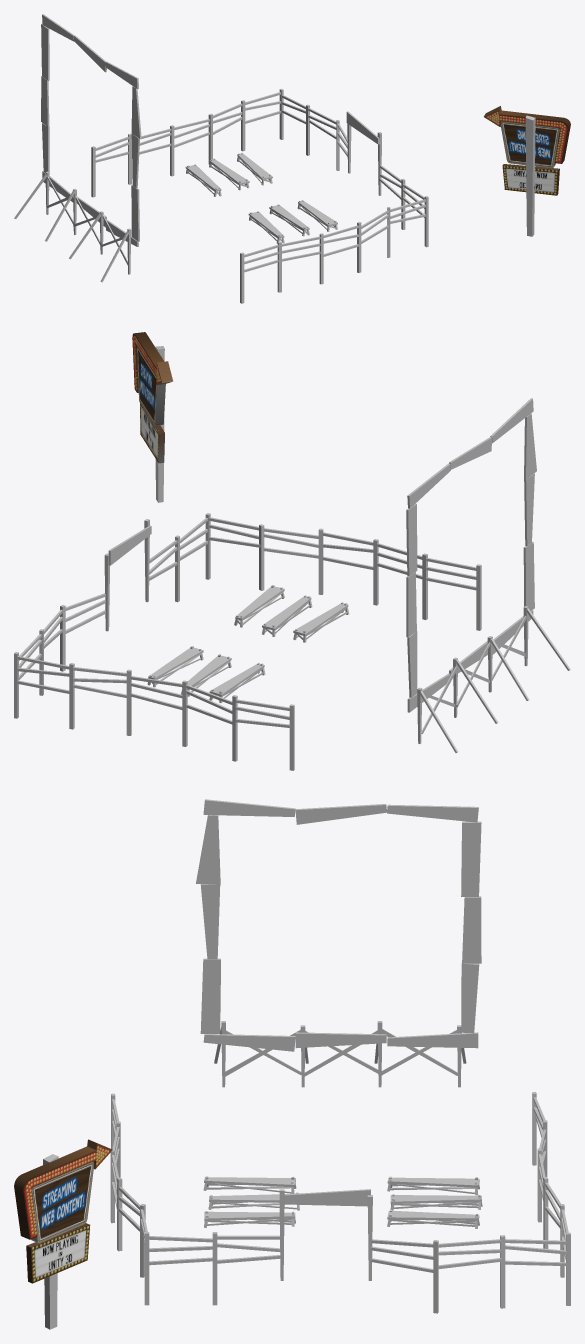
File: driveIn.FBX
3 renders of one model, top to bottom at view 1: azimuth 30°, elevation 25°; view 2: azimuth 150°, elevation 25°; view 3: azimuth 270°, elevation 25°, orthographic. The views are drawn at different scales.
Parts seen in each view (by area): view 1: driveIn_Fence01, driveIn_Sign, driveIn_Frame01, driveIn_benches01, driveIn_support01, driveIn_pole; view 2: driveIn_Fence01, driveIn_Frame01, driveIn_benches01, driveIn_Sign, driveIn_support01; view 3: driveIn_Frame01, driveIn_Fence01, driveIn_Sign, driveIn_benches01, driveIn_support01, driveIn_pole.
Boxes of the visible parts, x1,y1,x2,y2 form: driveIn_Fence01: (91,88,428,303); driveIn_Sign: (483,106,570,195); driveIn_Frame01: (41,14,141,246); driveIn_benches01: (185,153,337,243); driveIn_support01: (14,171,131,282); driveIn_pole: (525,115,535,236); driveIn_Fence01: (14,513,481,770); driveIn_Frame01: (406,398,536,712); driveIn_benches01: (147,585,349,702); driveIn_Sign: (132,332,173,463); driveIn_support01: (417,606,570,752); driveIn_Frame01: (196,799,481,1051); driveIn_Fence01: (110,1092,570,1313); driveIn_Sign: (14,1139,112,1283); driveIn_benches01: (203,1176,482,1228); driveIn_support01: (214,1021,466,1087); driveIn_pole: (43,1154,58,1329).
Size of the model in its own units: 26.78 by 22.22 by 13.89.
